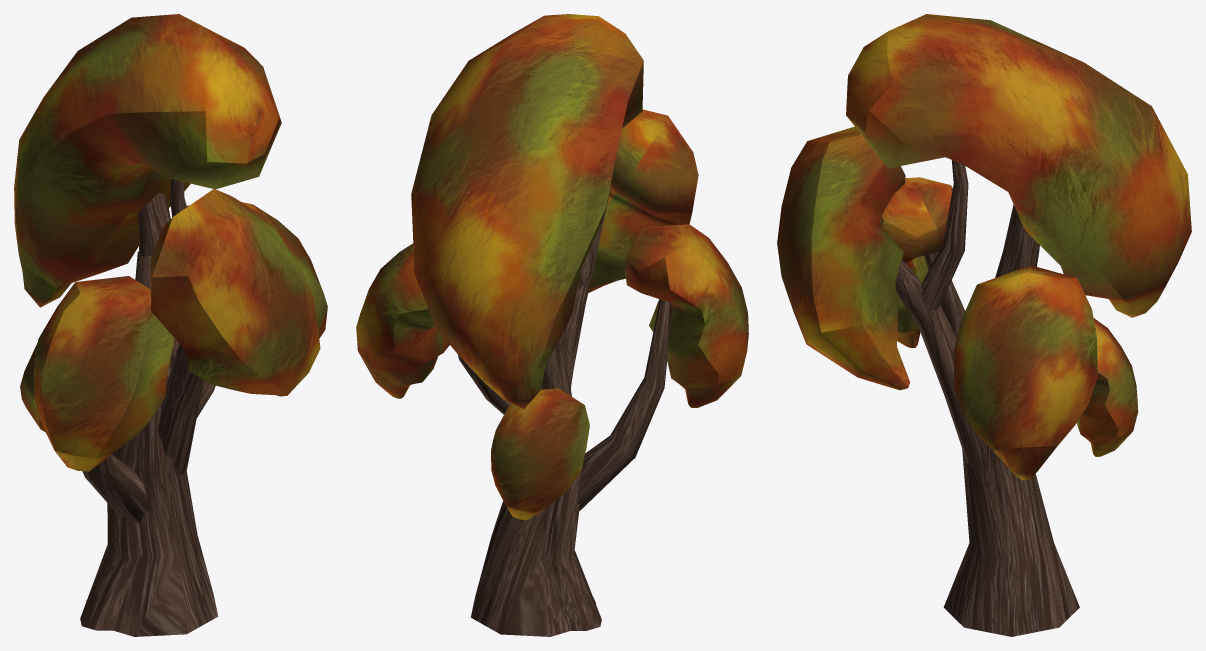
Rendered from tree01.glb.
3 views of the same model, side by side, from view 1: azimuth 30°, elevation 25°; view 2: azimuth 150°, elevation 25°; view 3: azimuth 270°, elevation 25° (orthographic). The views are drawn at different scales.
Parts seen in each view (by area): view 1: Tree01; view 2: Tree01; view 3: Tree01.
Part boxes in pixels (left/top/right/bottom): Tree01: left=14, top=14, right=327, bottom=636; Tree01: left=356, top=14, right=748, bottom=636; Tree01: left=777, top=14, right=1191, bottom=636.
Bounding box in the file's own units: 4.04 × 6.74 × 4.35.
2 materials, 2 textured.
